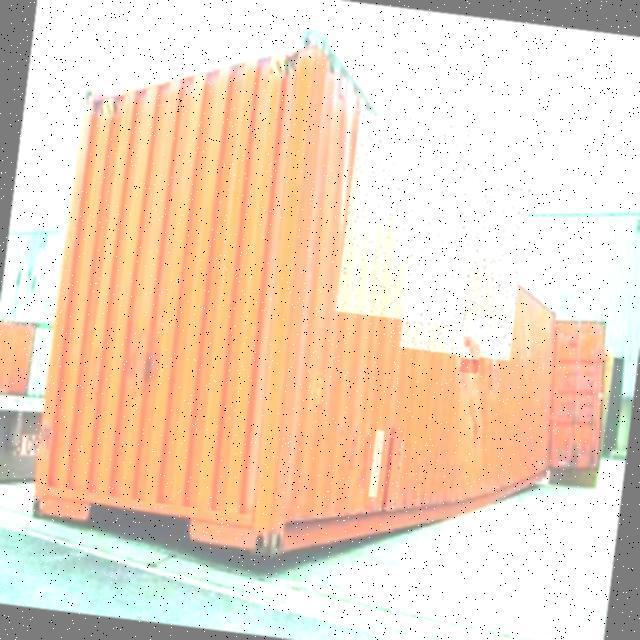rust: (382, 429, 397, 513), (369, 431, 385, 499), (393, 438, 406, 512)
